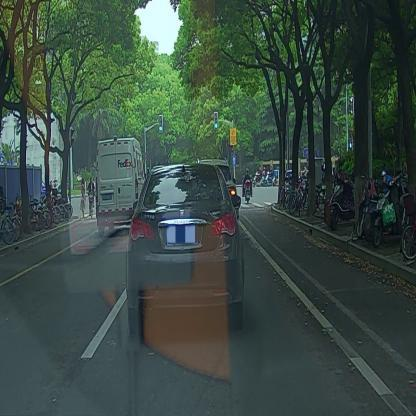Green Light: (158, 112, 164, 134), (214, 110, 219, 129)
